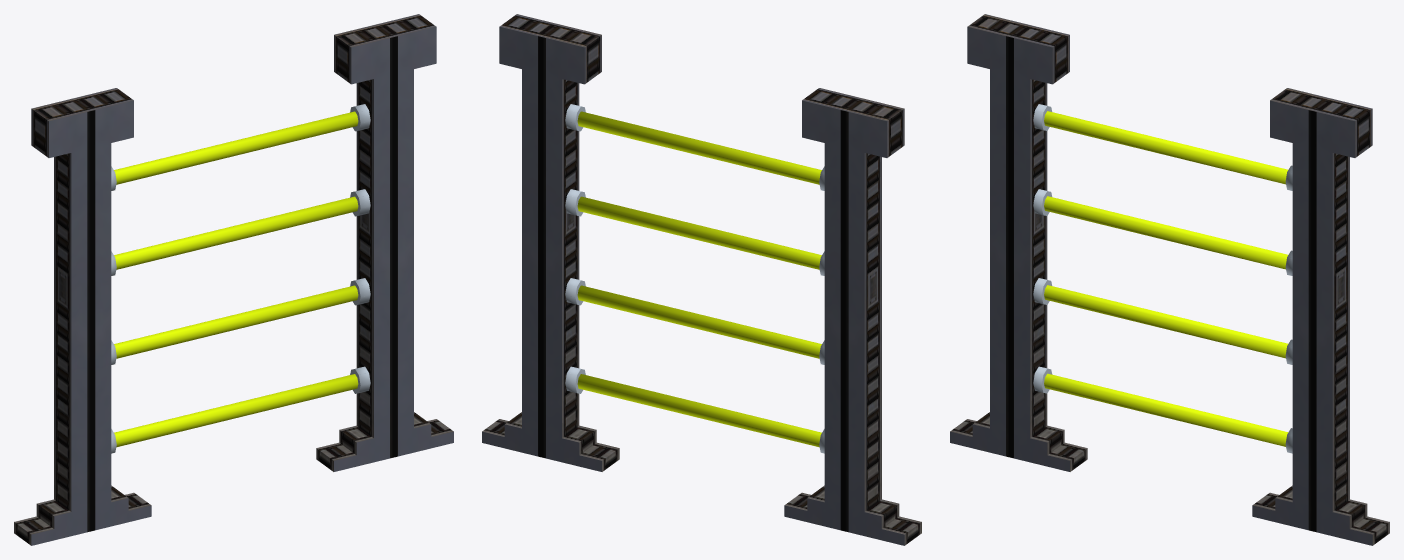
File: level1_obtacle_large.glb
3 views of the same model, side by side, from view 1: azimuth 30°, elevation 25°; view 2: azimuth 150°, elevation 25°; view 3: azimuth 330°, elevation 25° (orthographic).
Visible parts, largest first — view 1: Scifi_SmallLaser_Barrier; view 2: Scifi_SmallLaser_Barrier; view 3: Scifi_SmallLaser_Barrier.
Boxes of the visible parts, x1=… form: Scifi_SmallLaser_Barrier: x1=14, y1=14, x2=453, y2=545; Scifi_SmallLaser_Barrier: x1=482, y1=14, x2=921, y2=545; Scifi_SmallLaser_Barrier: x1=950, y1=14, x2=1389, y2=545.
Bounding box in the file's own units: 3.86 × 3.67 × 0.2753.
Materials: 1 (1 with a texture image).
